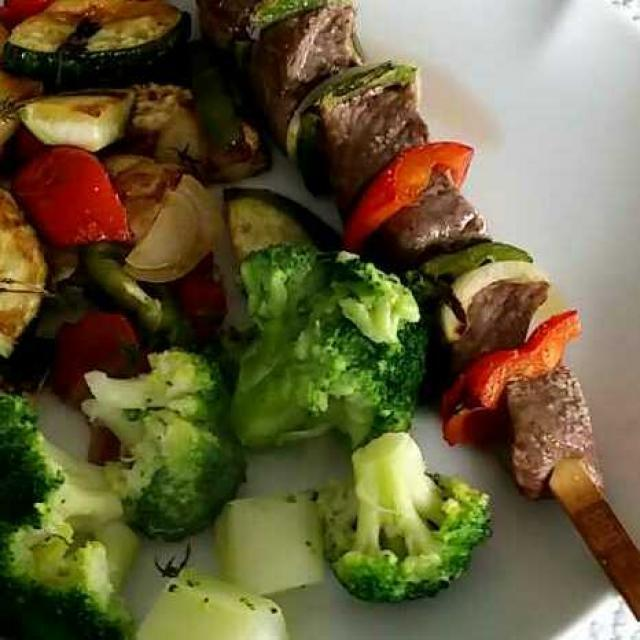broccoli: (2, 213, 516, 638)
